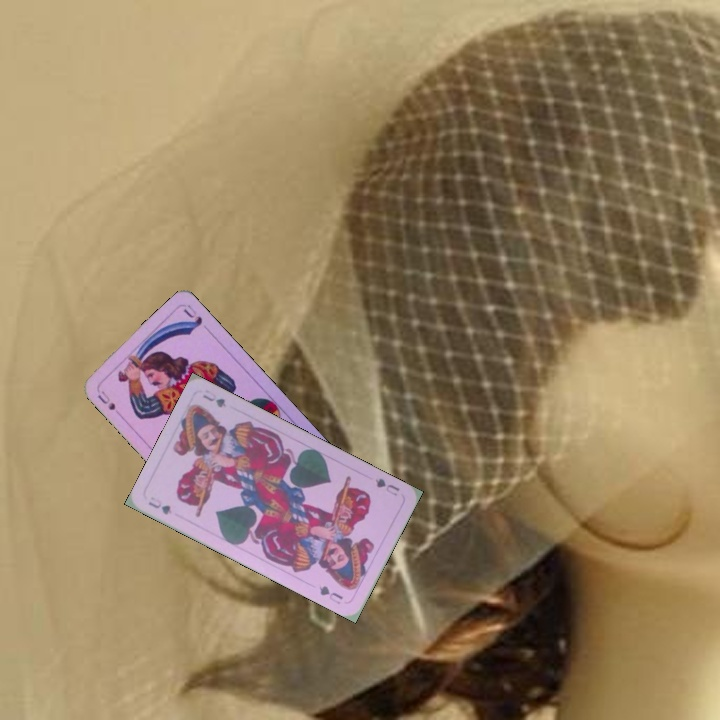GU: (371, 474, 402, 498), (144, 493, 174, 517)
SU: (93, 384, 118, 413)
